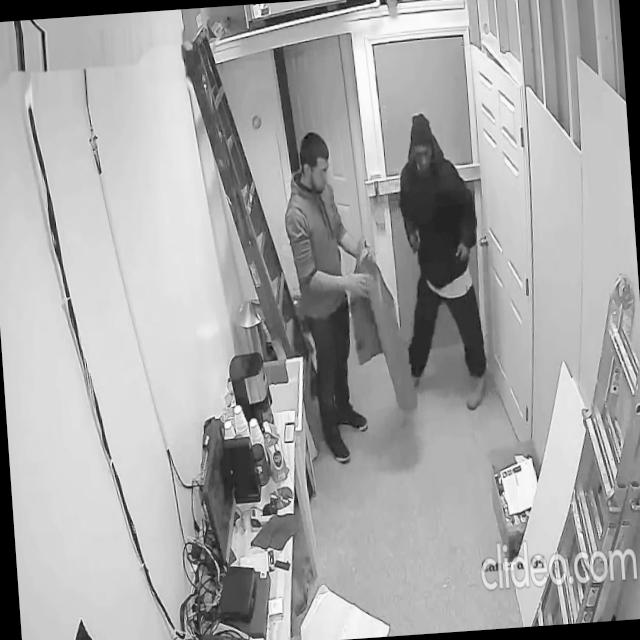gun: (408, 224, 421, 256)
person: (280, 126, 390, 468)
person with a gun: (382, 107, 492, 419)
